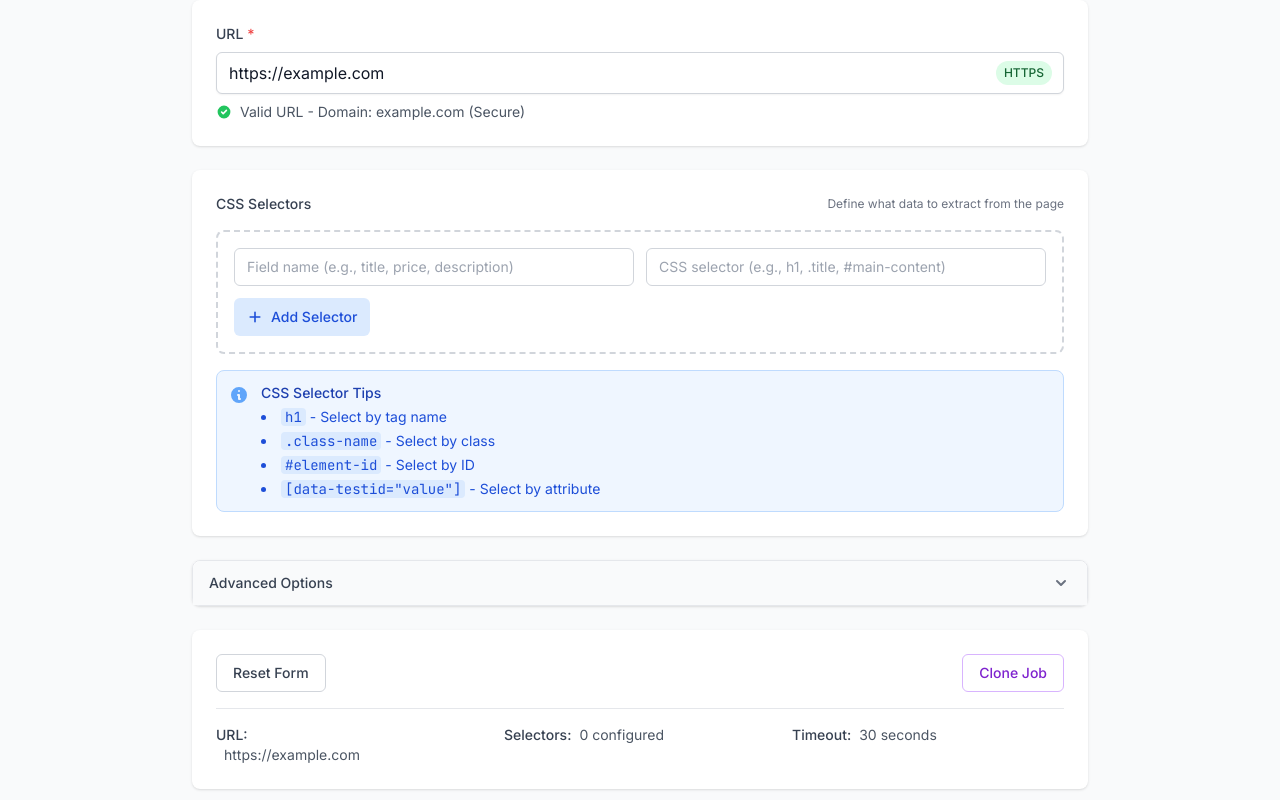
JobForm Clone Mode Integration › Complete Clone Workflow › should handle clone errors appropriately
Click the button "Clone Job". click: (1013, 673)
box: [962,654,1064,692]
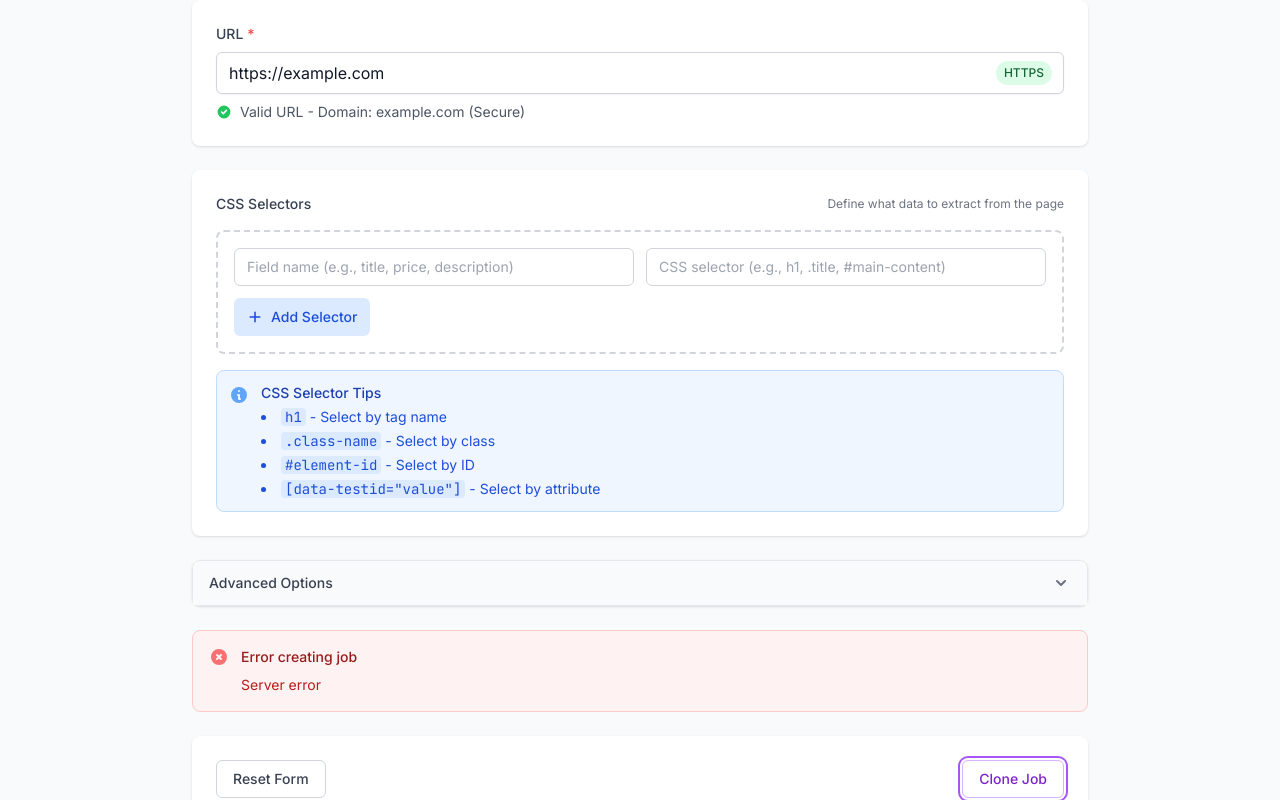
Result: the heading "Error creating job" is shown at [241,647,357,667]
Result: the text "Server error" is shown at [241,676,321,693]
